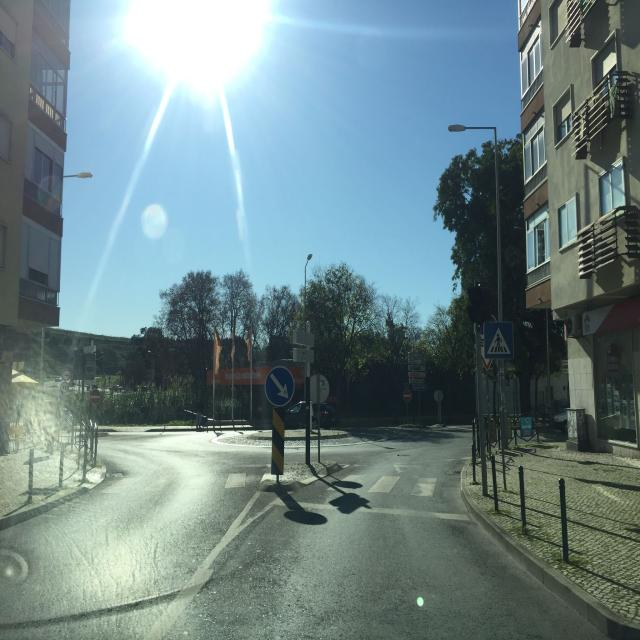car: (552, 384, 639, 440), (301, 402, 336, 429)
